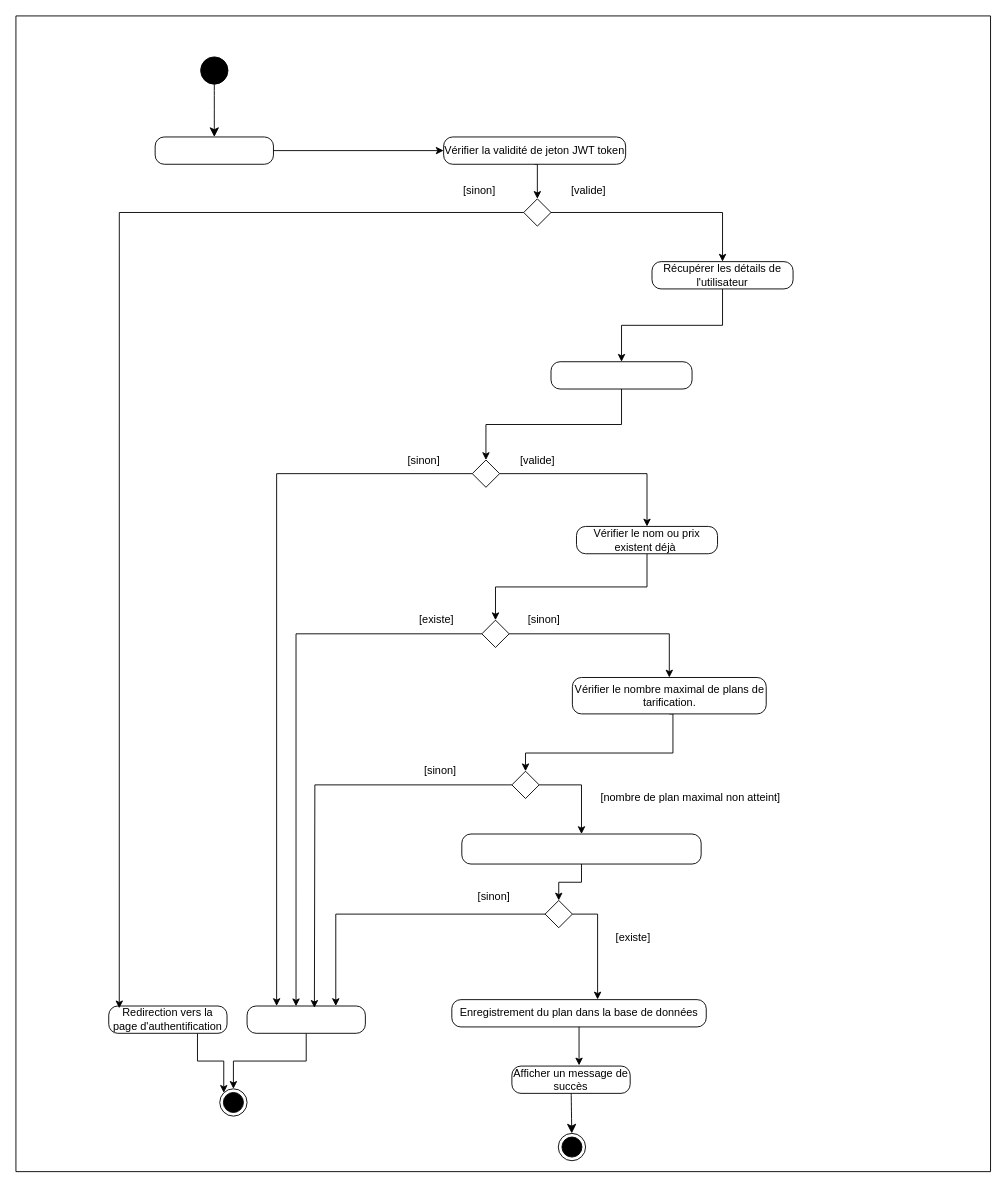
Image size: 1006x1188. Some labels were removed from this diagram. Here are the shapes that lost their labels. From the top down, the centre of each, then its label:
At (213,150): "Remplir le formulaire".
At (621,375): "Vérification des champs de la validité de l'API".
At (581,848): "Vérifier si un plan de tarification existe déjà".
At (305,1019): "Afficher un message d'erreur".
